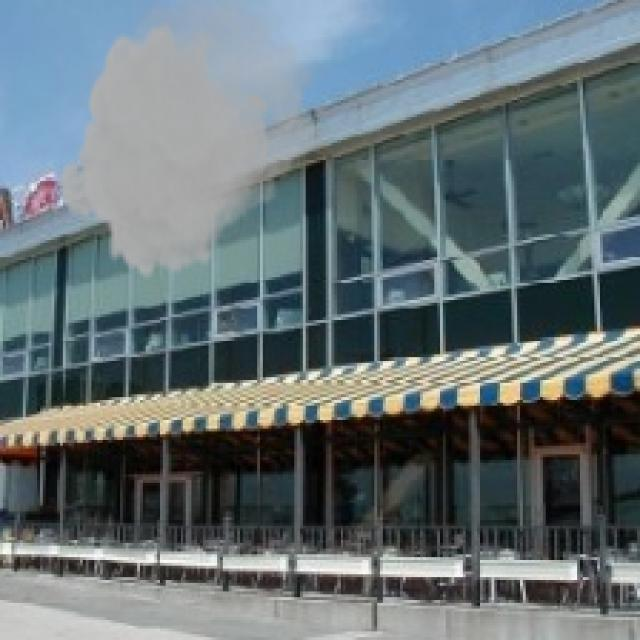smoke: (57, 0, 326, 283)
